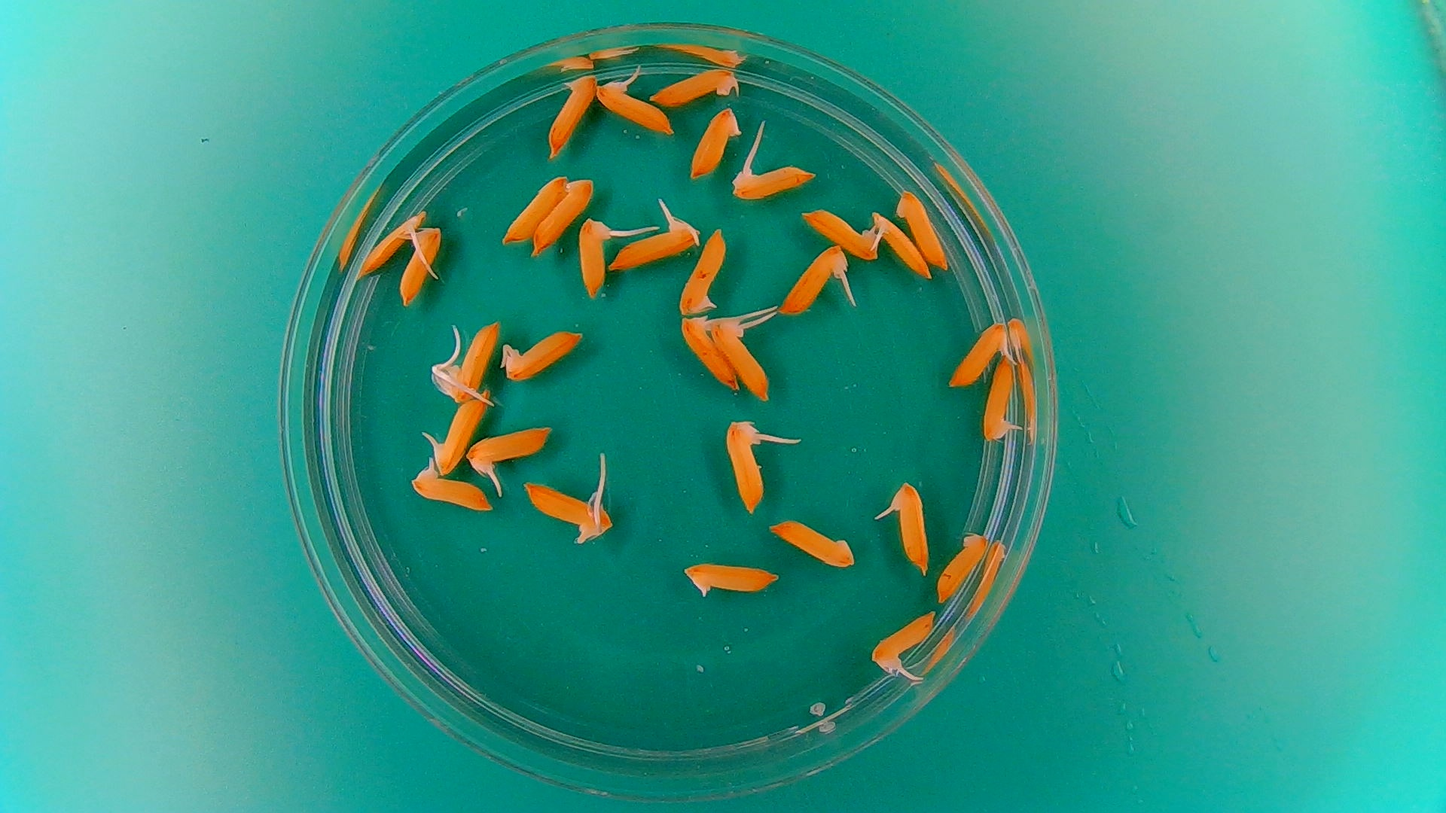no: (529, 173, 596, 255), (767, 515, 857, 571), (545, 69, 600, 159), (502, 172, 567, 244), (797, 205, 882, 260), (894, 187, 949, 270), (681, 556, 782, 599), (688, 105, 743, 181), (646, 65, 742, 108), (937, 534, 987, 602)
yes: (706, 319, 770, 400), (777, 242, 846, 313), (947, 318, 1015, 389), (520, 485, 614, 536), (356, 206, 426, 274), (596, 78, 674, 137), (677, 228, 728, 315), (869, 211, 932, 281), (503, 325, 577, 384), (612, 216, 695, 268), (435, 392, 487, 472), (681, 313, 736, 387), (409, 465, 493, 513), (871, 606, 935, 668), (980, 349, 1020, 446), (891, 483, 932, 575), (467, 427, 550, 472), (448, 327, 500, 398), (398, 227, 443, 303), (725, 422, 764, 508), (728, 163, 813, 201), (575, 215, 612, 297)
